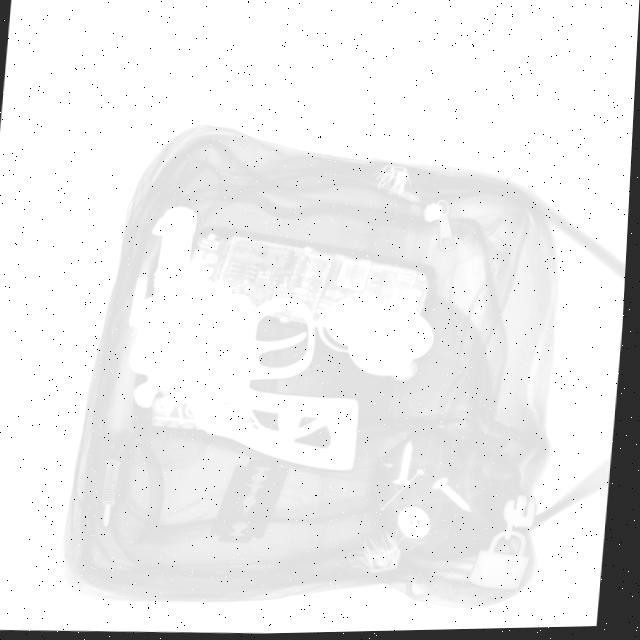pistol: (128, 202, 379, 474)
